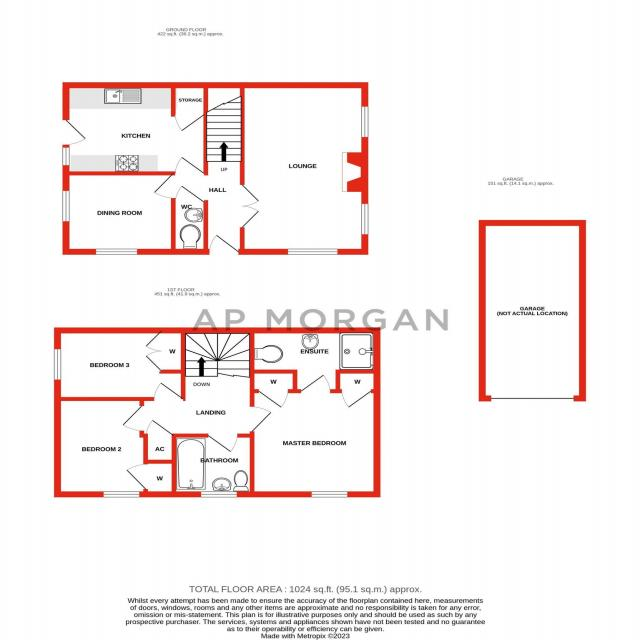DOOR: (62, 118, 88, 146), (208, 233, 239, 255), (249, 405, 273, 432), (207, 433, 239, 453), (152, 173, 176, 199), (300, 373, 331, 393), (153, 381, 184, 401), (174, 156, 205, 176), (121, 405, 144, 431)
DOUBLE DOOR: (239, 183, 261, 229)
ROOM: (240, 82, 369, 255), (249, 369, 381, 498), (62, 82, 209, 176), (53, 397, 177, 498), (53, 326, 187, 401), (62, 171, 176, 255)
WINDOW: (287, 248, 339, 256), (95, 248, 138, 256), (53, 348, 62, 381), (200, 491, 238, 498), (311, 491, 348, 498), (103, 491, 140, 498), (361, 203, 369, 235), (361, 106, 369, 138), (62, 190, 70, 222), (62, 147, 70, 166)
